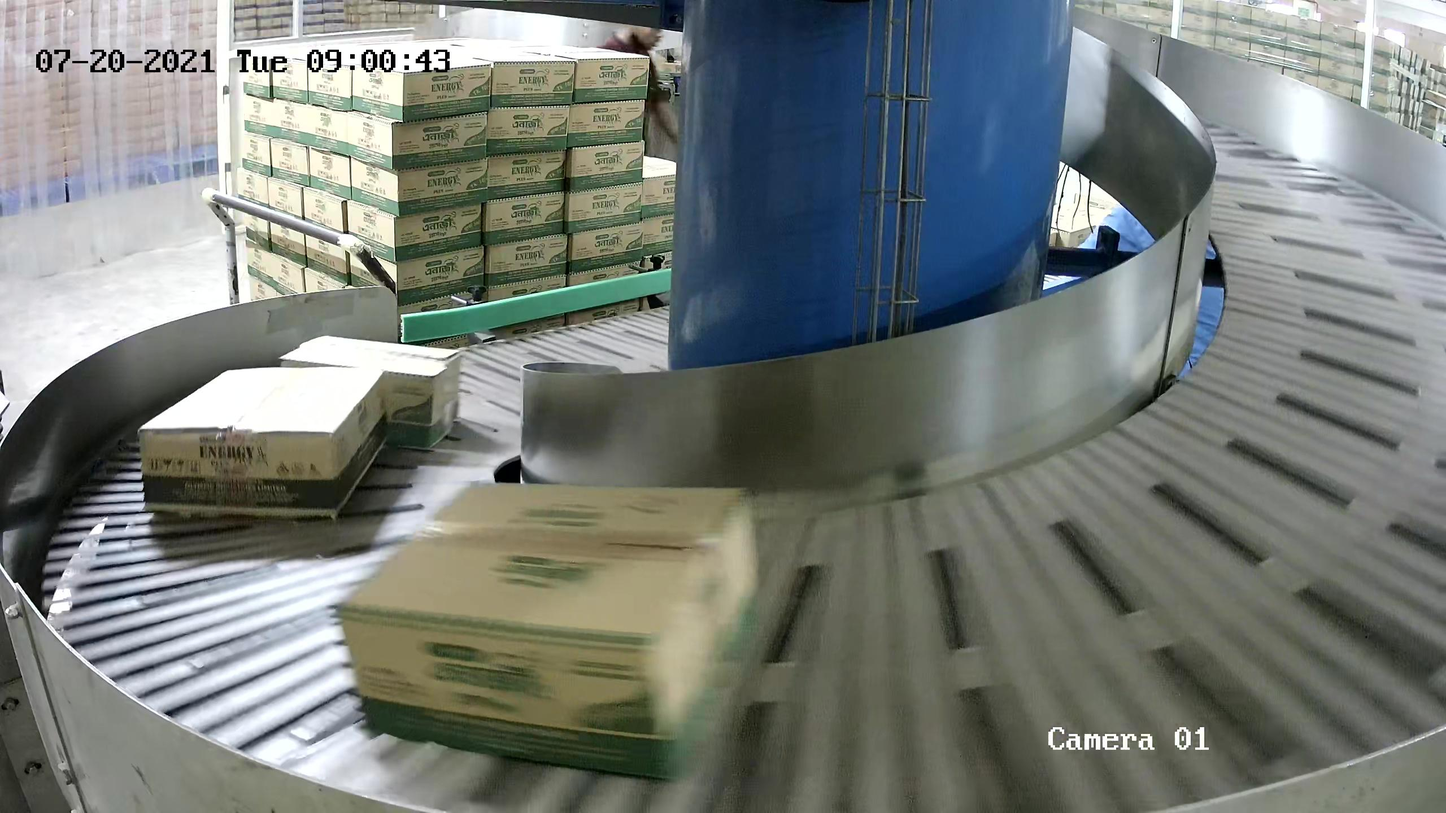Box: (331, 478, 767, 787), (138, 363, 390, 519), (277, 334, 464, 452)
